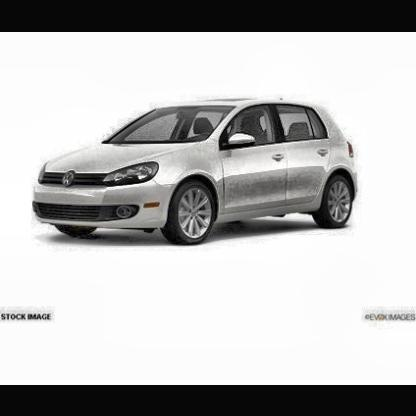Volkswagen Golf Hatchback 2012: (31, 98, 360, 242)
